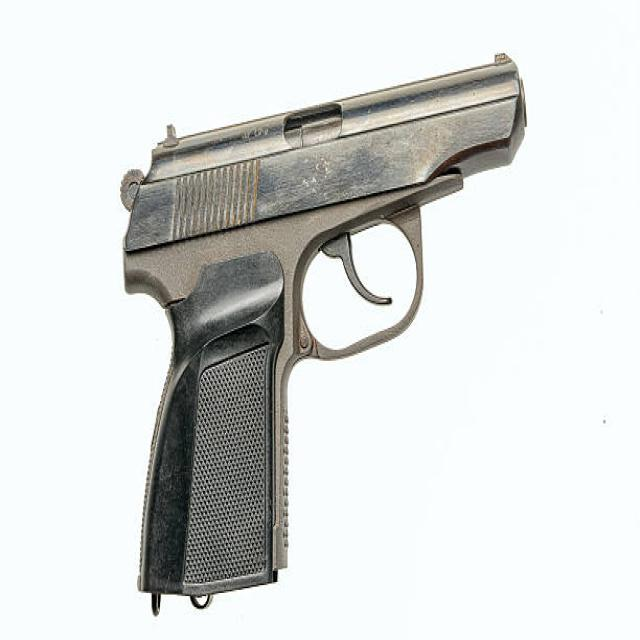pistol: (119, 50, 536, 617)
